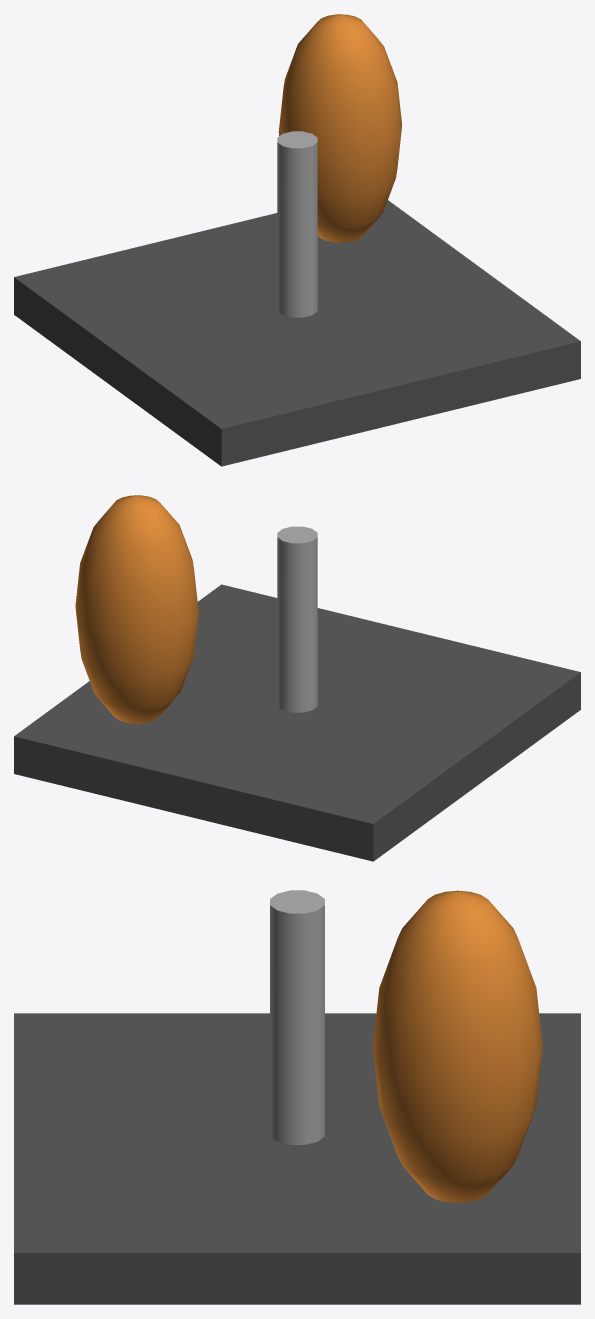
File: multimesh.glb
The picture shows the model from 3 angles, top to bottom: view 1: azimuth 30°, elevation 25°; view 2: azimuth 150°, elevation 25°; view 3: azimuth 270°, elevation 25°; orthographic projection. The views are drawn at different scales.
Visible parts, largest first — view 1: Base, Ball, Rod; view 2: Base, Ball, Rod; view 3: Base, Ball, Rod.
Part boxes in pixels (<box>): Base: <box>14,200,580,466</box>; Ball: <box>278,14,401,242</box>; Rod: <box>277,131,317,317</box>; Base: <box>14,584,580,861</box>; Ball: <box>75,495,198,723</box>; Rod: <box>277,526,317,712</box>; Base: <box>14,1013,580,1304</box>; Ball: <box>373,890,542,1202</box>; Rod: <box>270,890,324,1144</box>.
Bounding box in the file's own units: 2 × 1.4 × 2.
